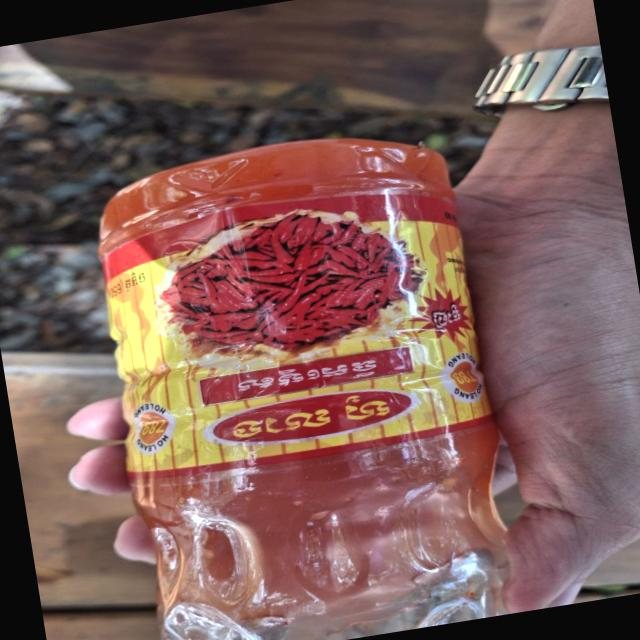1: (208, 386, 415, 455)
Yolov11kh: (211, 343, 408, 406), (418, 289, 480, 345), (120, 263, 165, 297)
